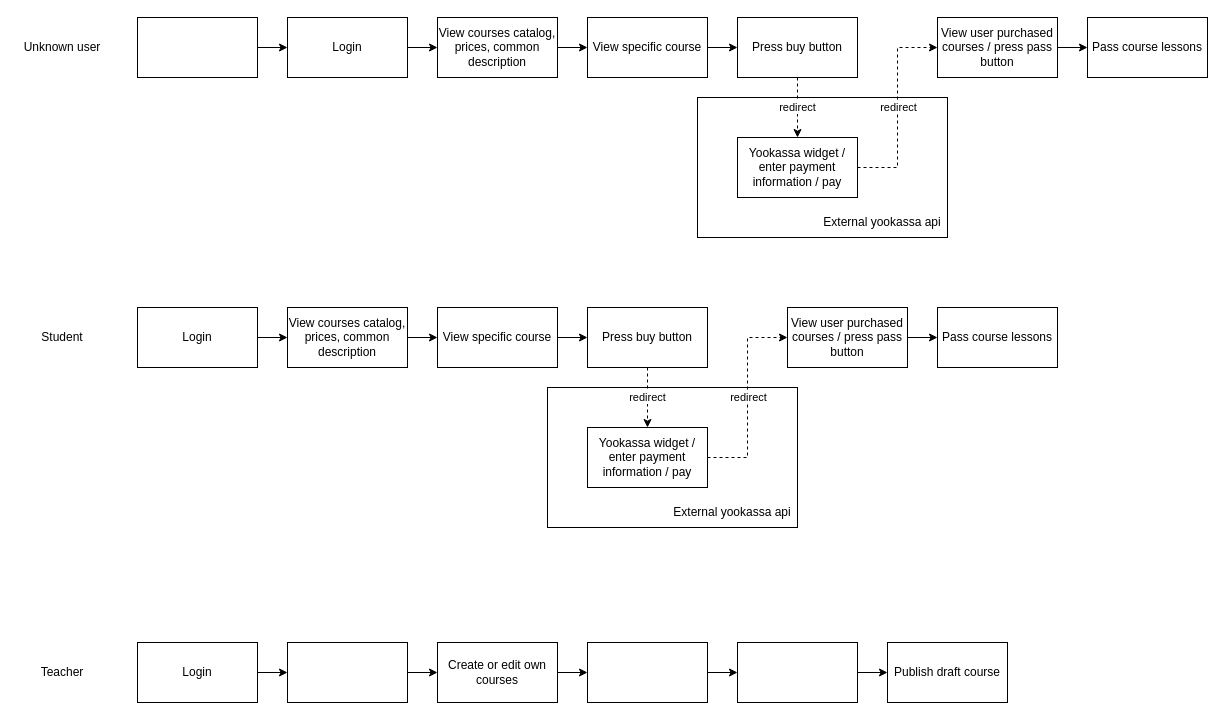
This 1225x720 diagram has some shape labels left out. Here are the shapes that lost their labels. From the top down, the centre of each, then its label:
point 197,47: Register
point 347,672: View teacher courses
point 647,672: Edit course common info / course content
point 797,672: Edit specific lesson / submit
